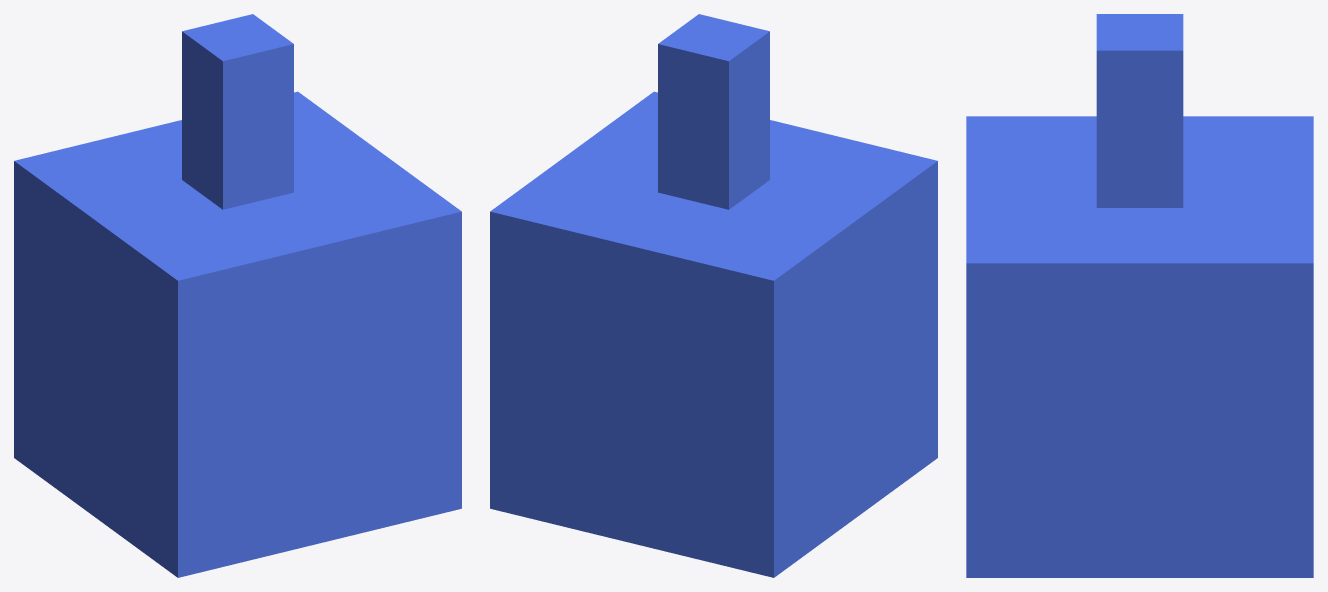
3 views of the same model, side by side, from view 1: azimuth 30°, elevation 25°; view 2: azimuth 150°, elevation 25°; view 3: azimuth 270°, elevation 25° (orthographic). The views are drawn at different scales.
Parts seen in each view (by area): view 1: victory_link0, box_link1; view 2: victory_link0, box_link1; view 3: victory_link0, box_link1.
Part boxes in pixels (<box>): victory_link0: <box>14,91,461,577</box>; box_link1: <box>182,14,293,209</box>; victory_link0: <box>490,91,937,577</box>; box_link1: <box>658,14,769,209</box>; victory_link0: <box>966,116,1313,577</box>; box_link1: <box>1096,14,1183,207</box>.
Bounding box in the file's own units: 1 × 1 × 1.5.
